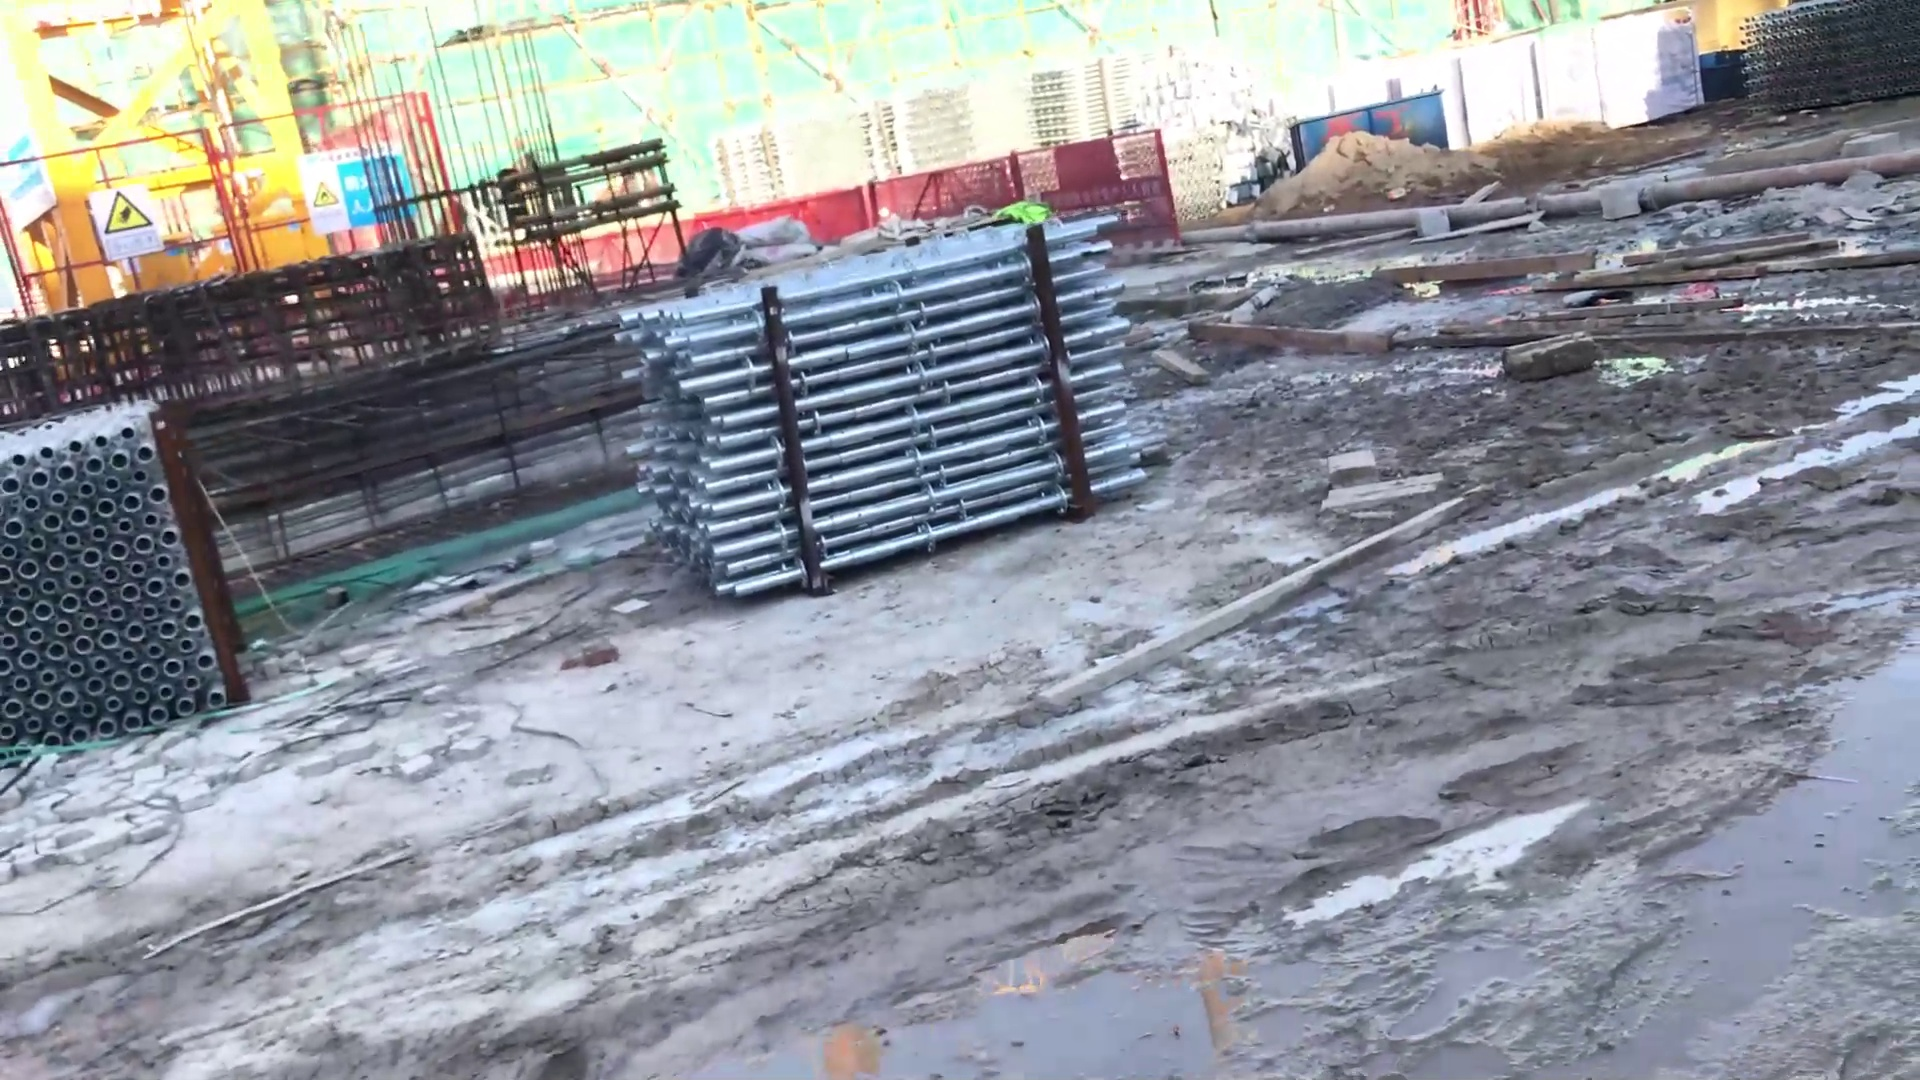fence: (7, 111, 475, 311), (851, 142, 1168, 229)
hopper: (1271, 82, 1452, 185)
scaffold: (615, 261, 1155, 574), (11, 429, 243, 738), (715, 119, 873, 204), (1011, 49, 1154, 129), (870, 79, 1010, 153)
slogan: (287, 152, 367, 239), (86, 185, 158, 261)
